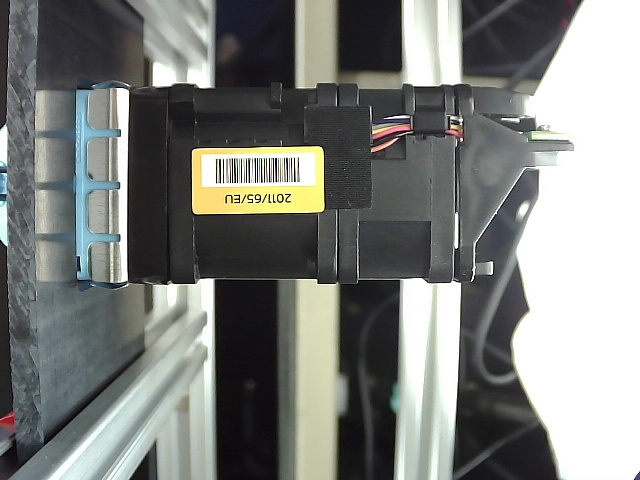1_1: (135, 245, 510, 293)
